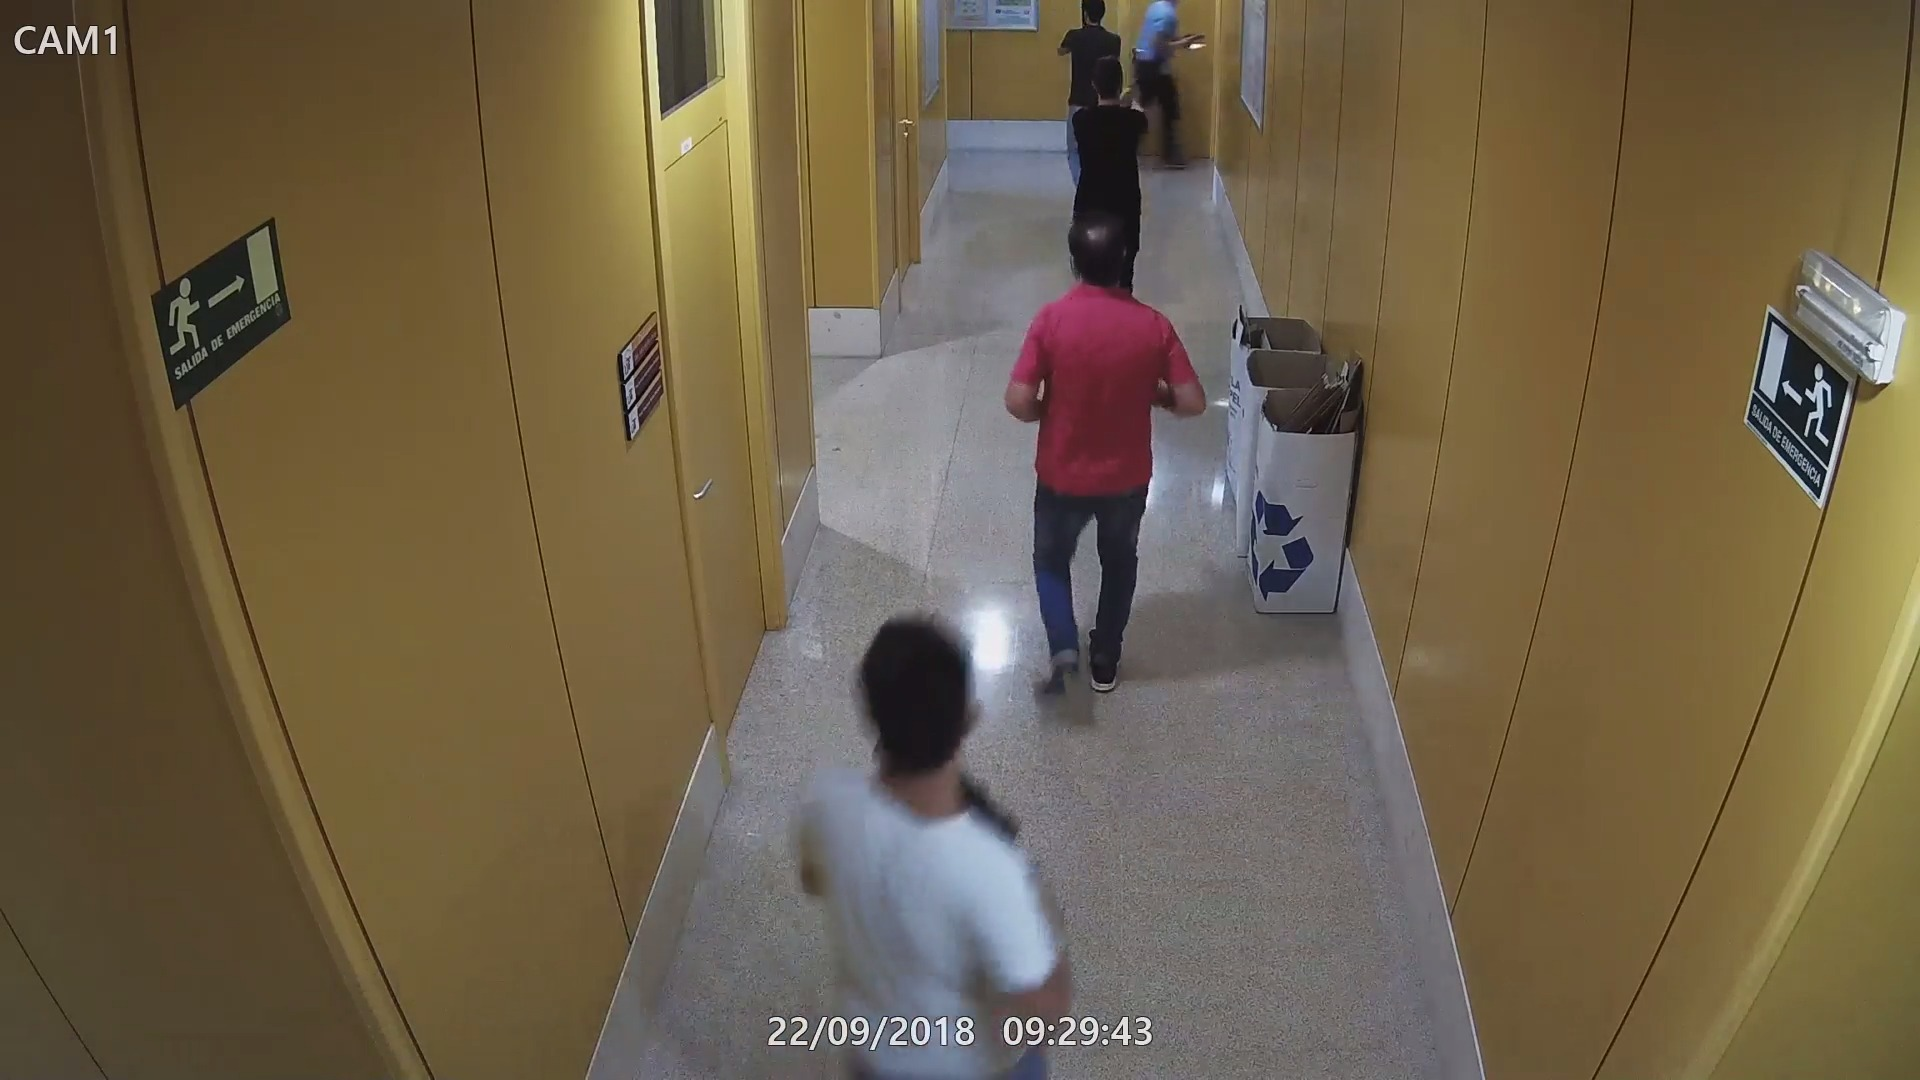Handgun: (1127, 66, 1153, 98), (1182, 22, 1207, 50)
Knife: (1174, 37, 1212, 61)
Short_rifle: (948, 750, 1021, 843)
